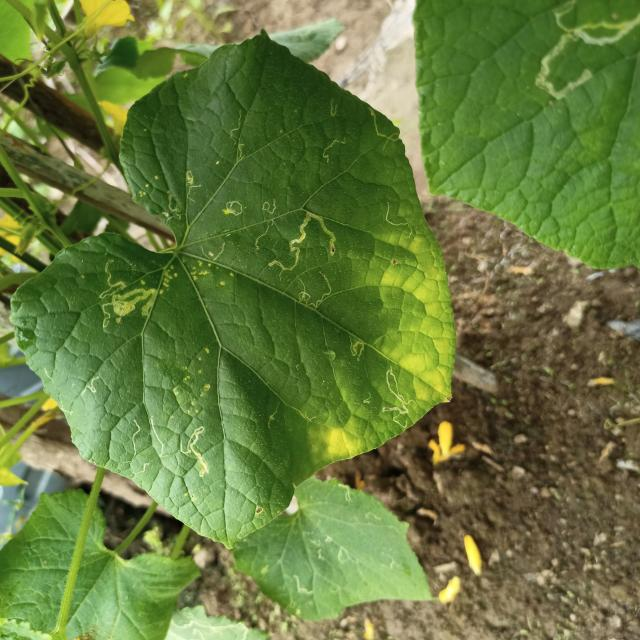disease_cucumber: (336, 219, 467, 407), (293, 385, 397, 464)
